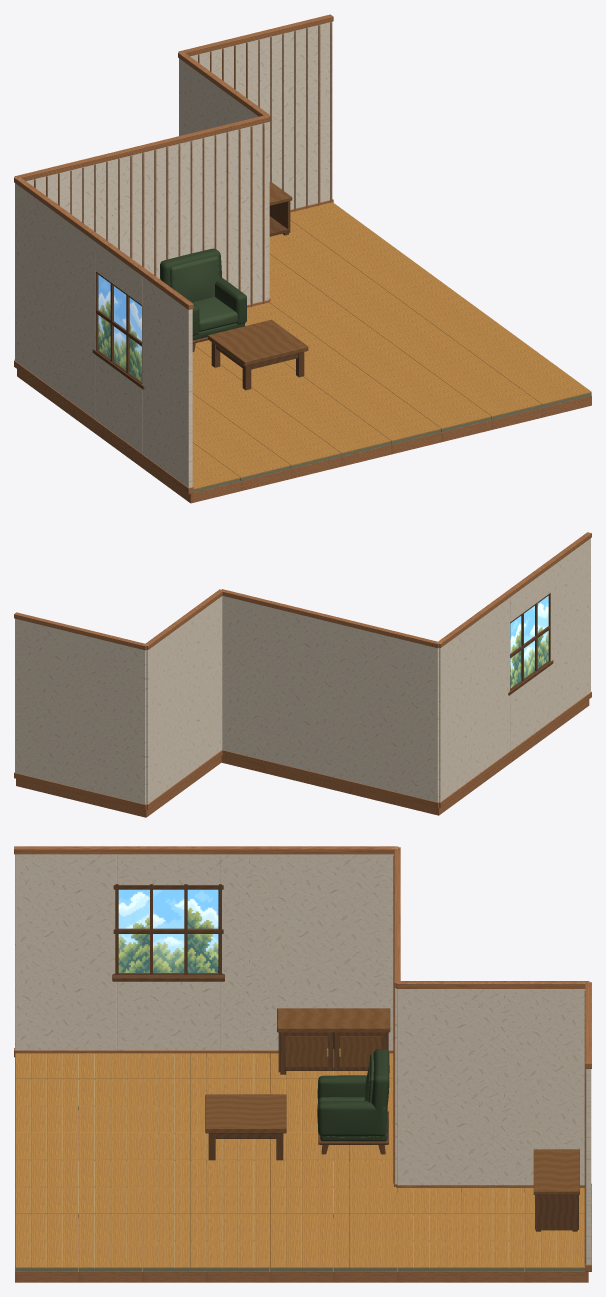
Rendered from casa-principal.glb.
3 views of the same model, one above another, from view 1: azimuth 30°, elevation 25°; view 2: azimuth 150°, elevation 25°; view 3: azimuth 270°, elevation 25° (orthographic). The views are drawn at different scales.
Parts seen in each view (by area): view 1: Paredes_malha, PisoMadeira_malha, Ripas_malha, Piso_malha, Poltrona_malha, Janela_malha, Mesa_malha, Estante_malha; view 2: Paredes_malha, Piso_malha, Janela_malha; view 3: Paredes_malha, PisoMadeira_malha, Piso_malha, Janela_malha, Aparador_malha, Poltrona_malha, Mesa_malha, Estante_malha, Ripas_malha.
Boxes of the visible parts, x1,y1,x2,y2 form: Paredes_malha: [14, 14, 333, 494]; PisoMadeira_malha: [192, 202, 591, 489]; Ripas_malha: [34, 22, 332, 306]; Piso_malha: [17, 369, 591, 503]; Poltrona_malha: [160, 248, 246, 351]; Janela_malha: [92, 271, 144, 389]; Mesa_malha: [208, 319, 308, 390]; Estante_malha: [269, 182, 292, 236]; Paredes_malha: [14, 532, 591, 810]; Piso_malha: [16, 699, 589, 817]; Janela_malha: [508, 593, 553, 695]; Paredes_malha: [14, 846, 591, 1271]; PisoMadeira_malha: [15, 1053, 585, 1268]; Piso_malha: [15, 1053, 588, 1282]; Janela_malha: [112, 884, 224, 981]; Aparador_malha: [277, 1008, 390, 1074]; Poltrona_malha: [317, 1049, 389, 1154]; Mesa_malha: [205, 1094, 286, 1160]; Estante_malha: [533, 1149, 579, 1231]; Ripas_malha: [393, 855, 585, 1266].
Size of the model in its own units: 6.46 by 3.04 by 7.25.
18 materials, 12 textured.
